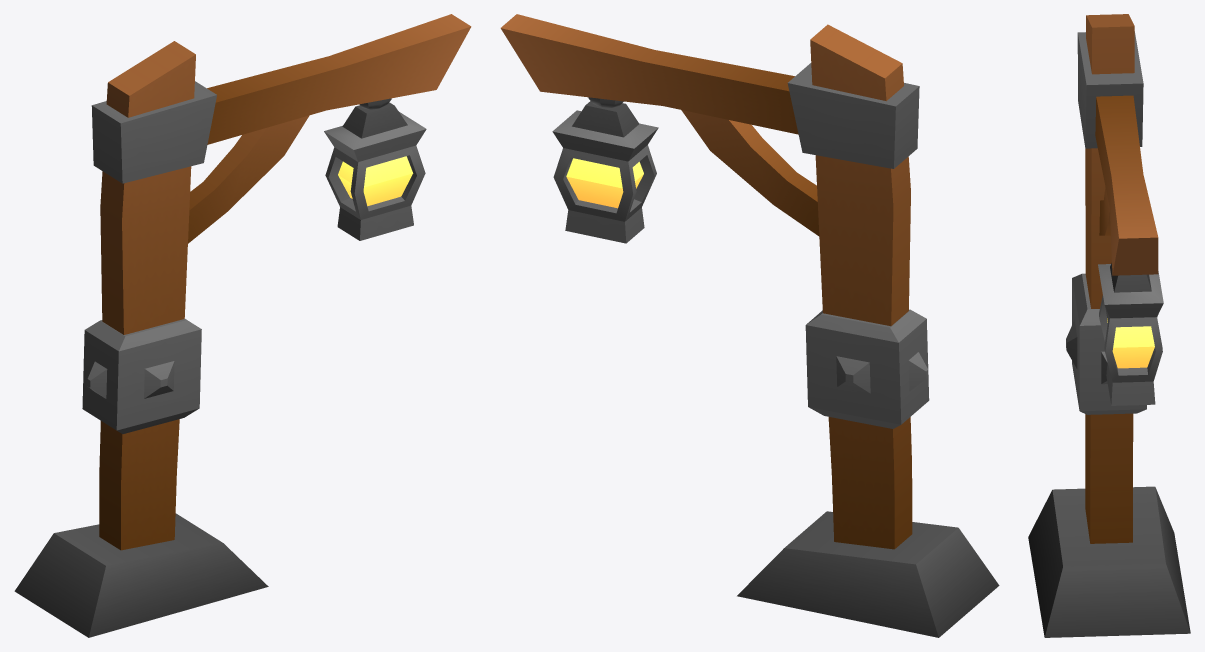
Rendered from lamp.001.002_lev1.glb.
3 renders of one model, left to right at view 1: azimuth 30°, elevation 25°; view 2: azimuth 150°, elevation 25°; view 3: azimuth 270°, elevation 25°, orthographic. The views are drawn at different scales.
Visible parts, largest first — view 1: lamp.001.002_lev1; view 2: lamp.001.002_lev1; view 3: lamp.001.002_lev1.
Part boxes in pixels (<box>): lamp.001.002_lev1: <box>14,14,471,637</box>; lamp.001.002_lev1: <box>500,14,999,637</box>; lamp.001.002_lev1: <box>1028,14,1190,637</box>.
Bounding box in the file's own units: 20.13 × 23.56 × 5.96.
1 material, 1 textured.
